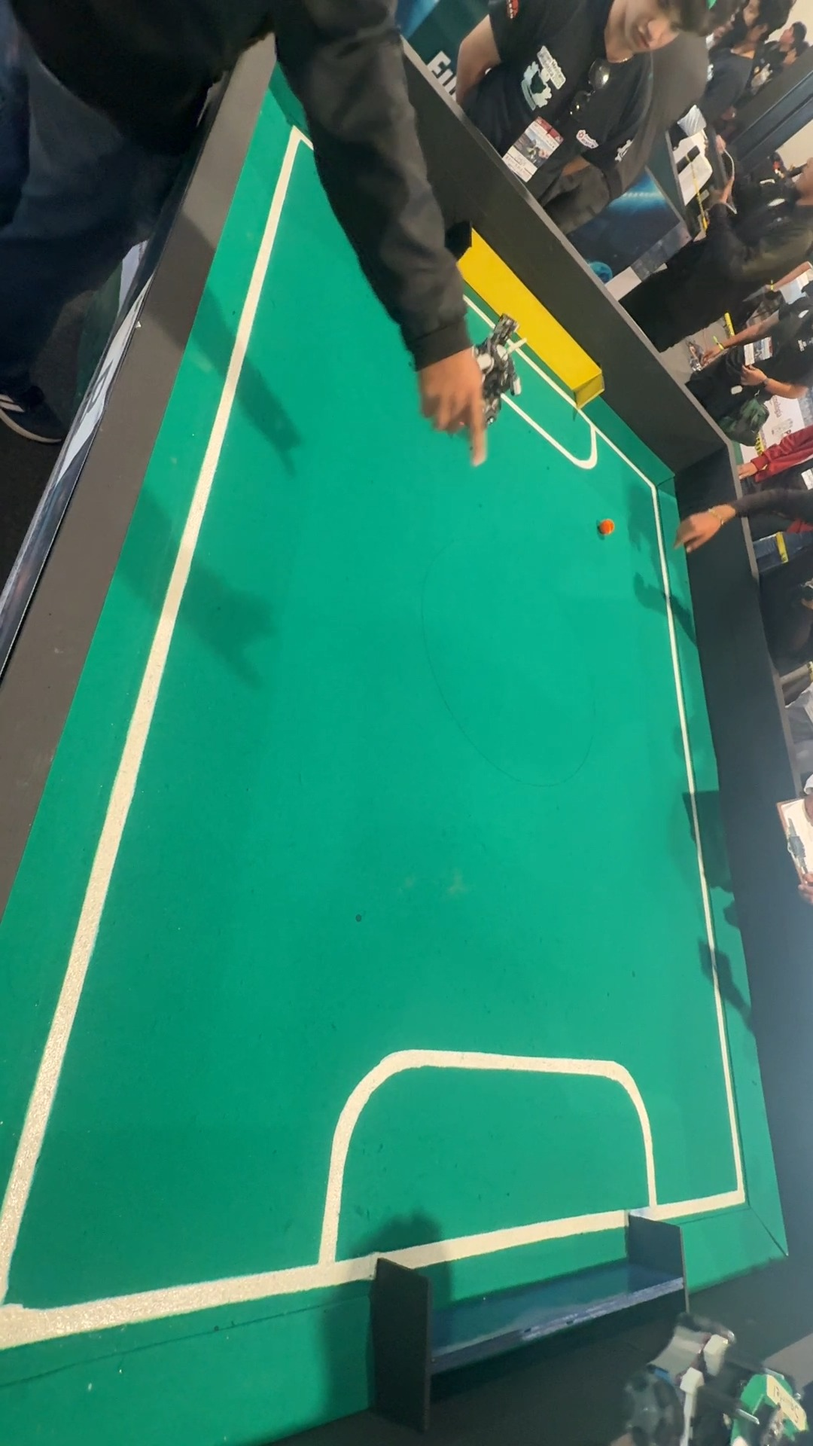Robot: (465, 299, 525, 434)
pelota: (597, 514, 615, 535)
